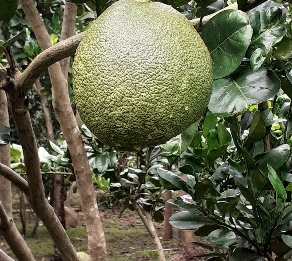Buoi: (54, 2, 222, 155)
